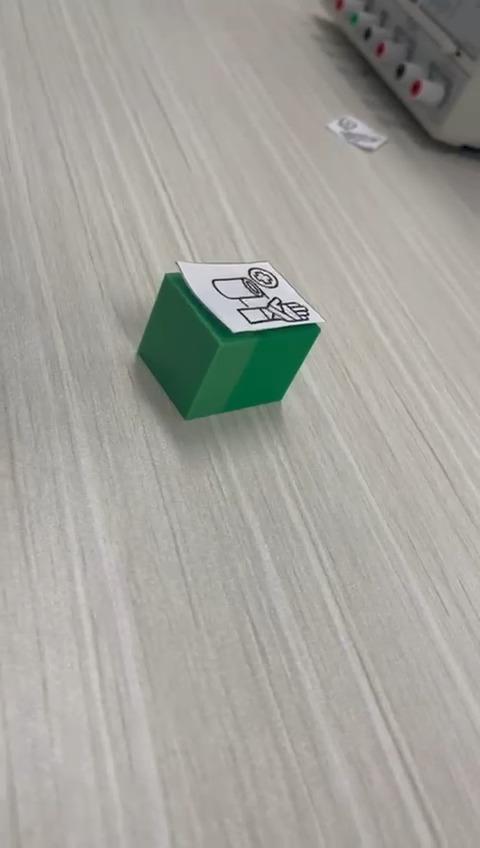Bandages: (137, 260, 327, 422)
